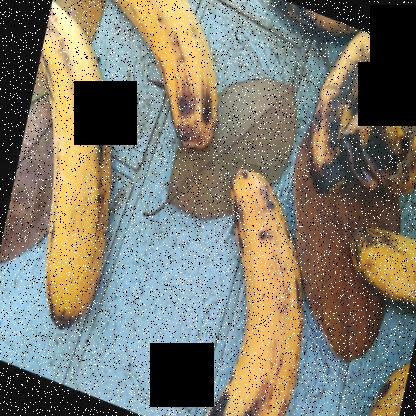overripe: (188, 153, 319, 416), (334, 218, 415, 324), (355, 359, 415, 415)
ripe: (18, 1, 124, 345), (94, 1, 230, 159)
rotten: (299, 21, 415, 203), (350, 54, 416, 198)
